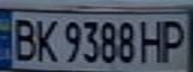3: (78, 18, 100, 64)
8: (96, 18, 121, 64), (115, 18, 139, 65)
9: (57, 17, 84, 64)
B: (6, 15, 39, 62)
H: (136, 17, 169, 64)
K: (30, 16, 60, 63)
P: (157, 16, 190, 63)
